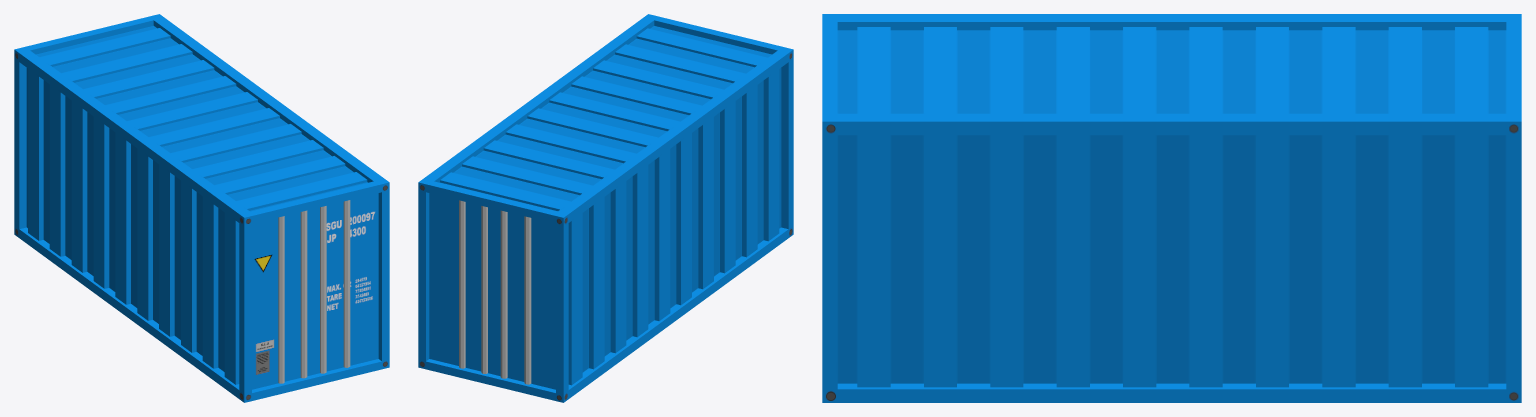
Rendered from Container.fbx.
3 renders of one model, left to right at view 1: azimuth 30°, elevation 25°; view 2: azimuth 150°, elevation 25°; view 3: azimuth 270°, elevation 25°, orthographic. The views are drawn at different scales.
Parts seen in each view (by area): view 1: Container; view 2: Container; view 3: Container.
Part boxes in pixels (box(x1,y1,x2,y2)): Container: box(14, 14, 389, 402); Container: box(418, 14, 793, 402); Container: box(822, 14, 1521, 402).
Size of the model in its own units: 170 by 207 by 467.
